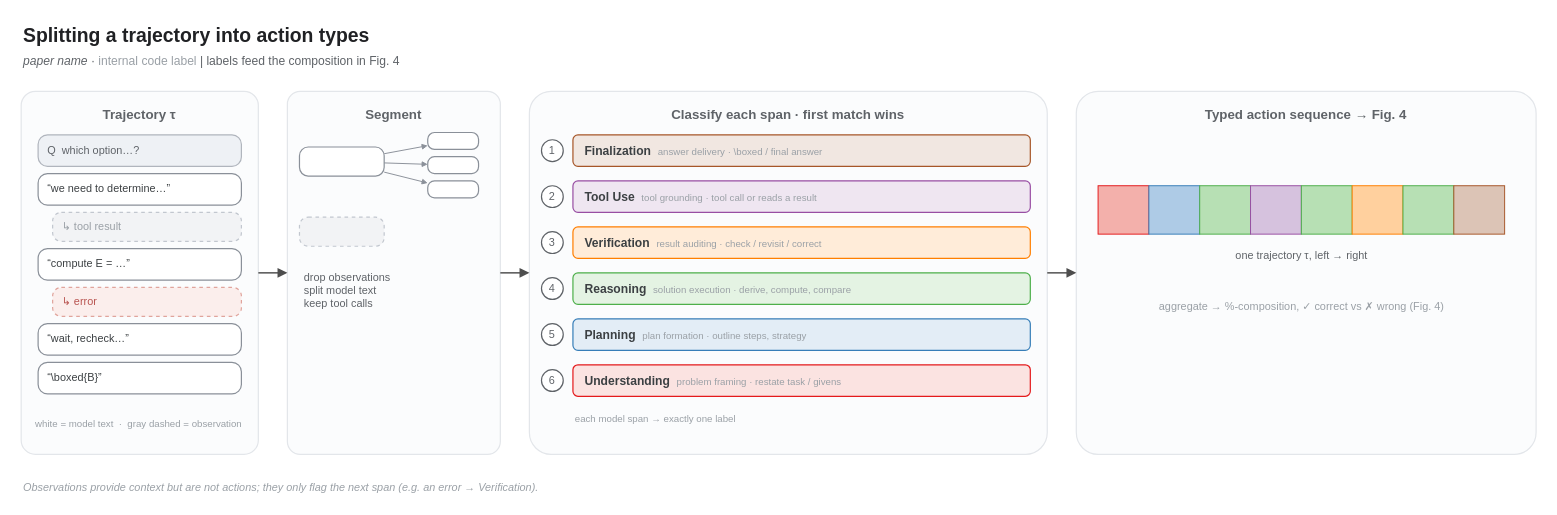
Some shapes in this 1557 by 515 pixel diagram are drawn without their labels. The centre of each missing label's shape, as x and y in pixels:
model text: [341,161]
obs ╳: [341,231]
